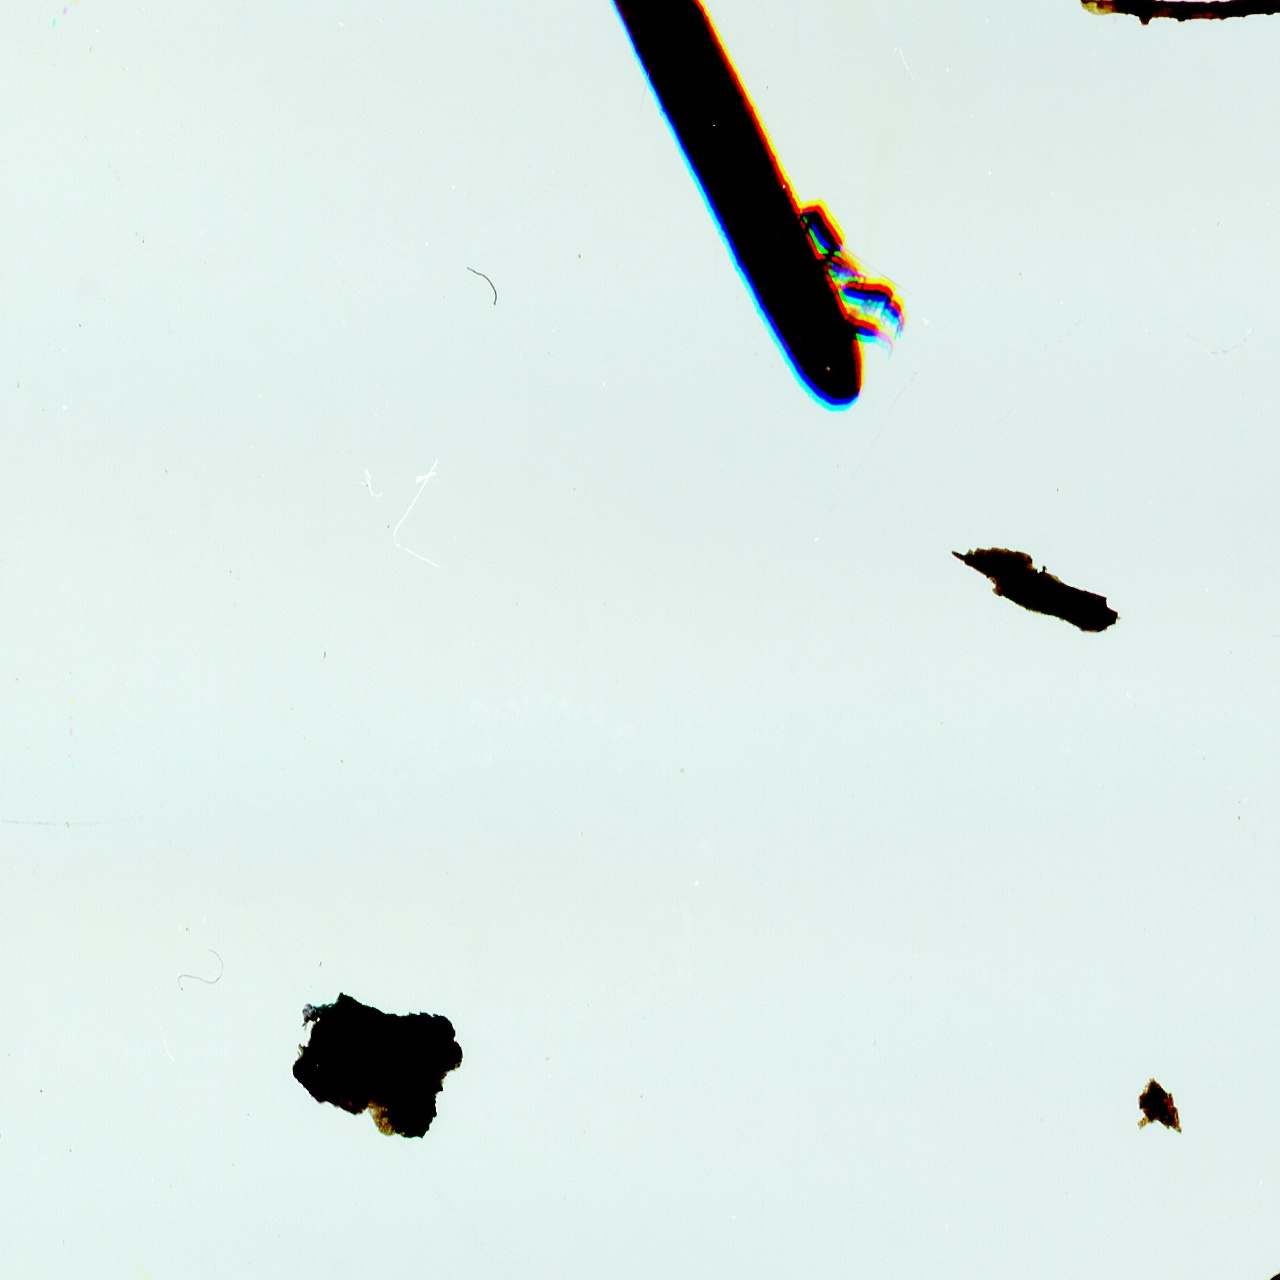arthropod: (783, 189, 859, 281), (840, 272, 911, 346), (828, 302, 905, 367), (818, 252, 865, 281)
